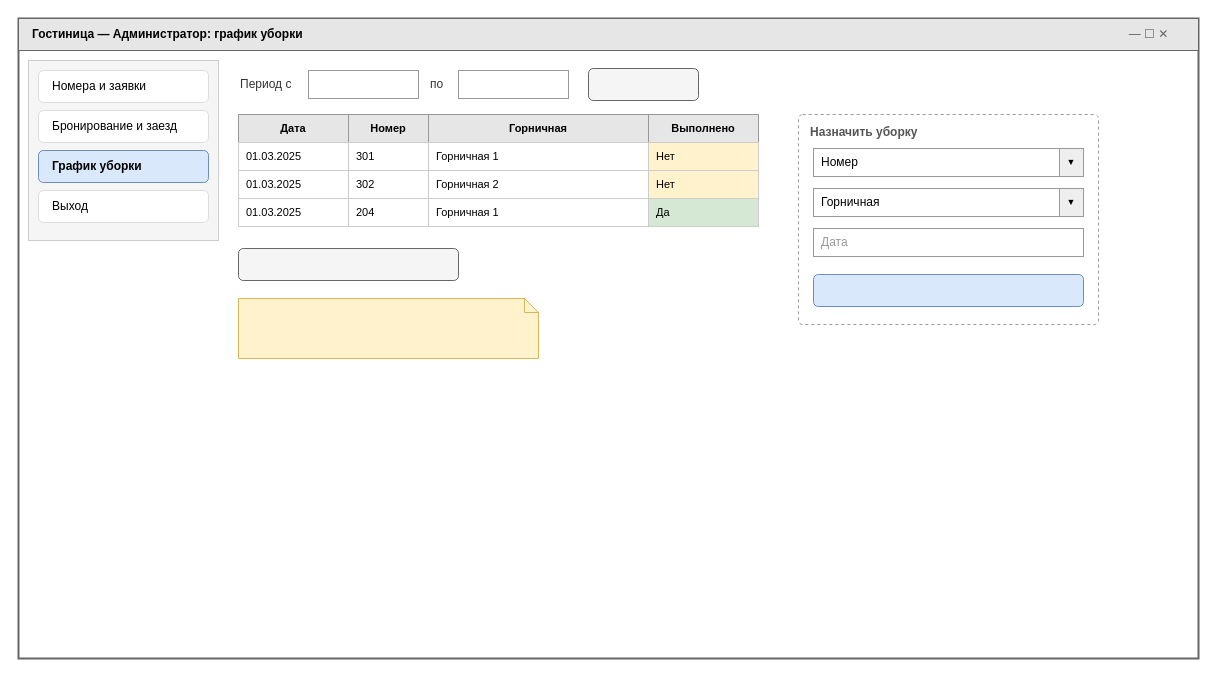
Image size: 1216x676. Some labels were removed from this diagram. The shapes that lost their labels are listed below. From the top down, each one's centre as x and y in pixels, then its label:
At pixel 643 84: "Показать".
At pixel 348 264: "Отметить выполненной".
At pixel 948 290: "Назначить".
At pixel 388 328: "Назначена → номер «Назначен к уборке». Выполнено → номер «Чистый».".
